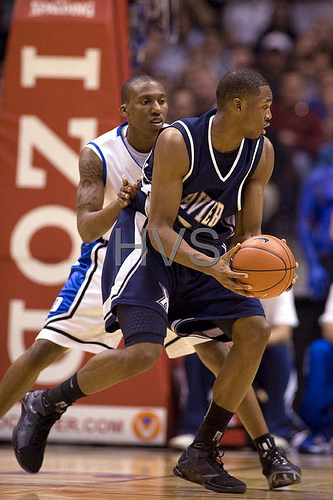basketball: (232, 235, 296, 300)
